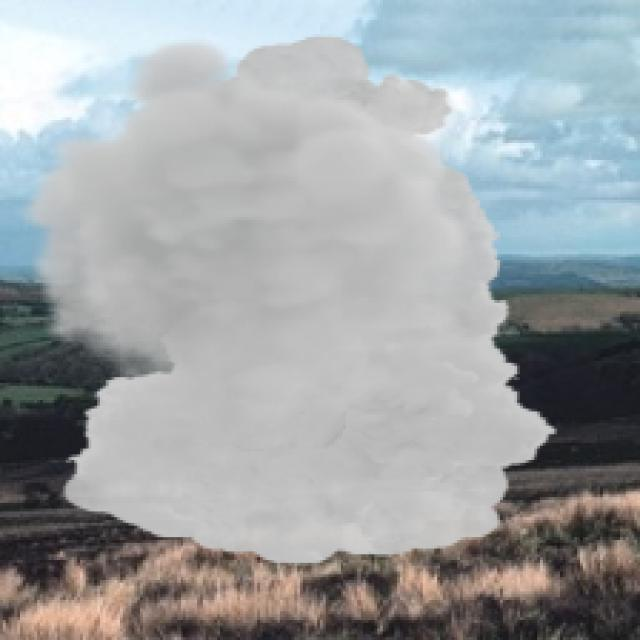Smoke: (20, 34, 560, 566)
